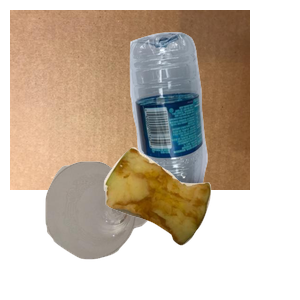cardboard: (10, 10, 250, 190)
glass: (43, 159, 187, 300)
plastic: (127, 29, 300, 209)
trash: (101, 145, 300, 300)
